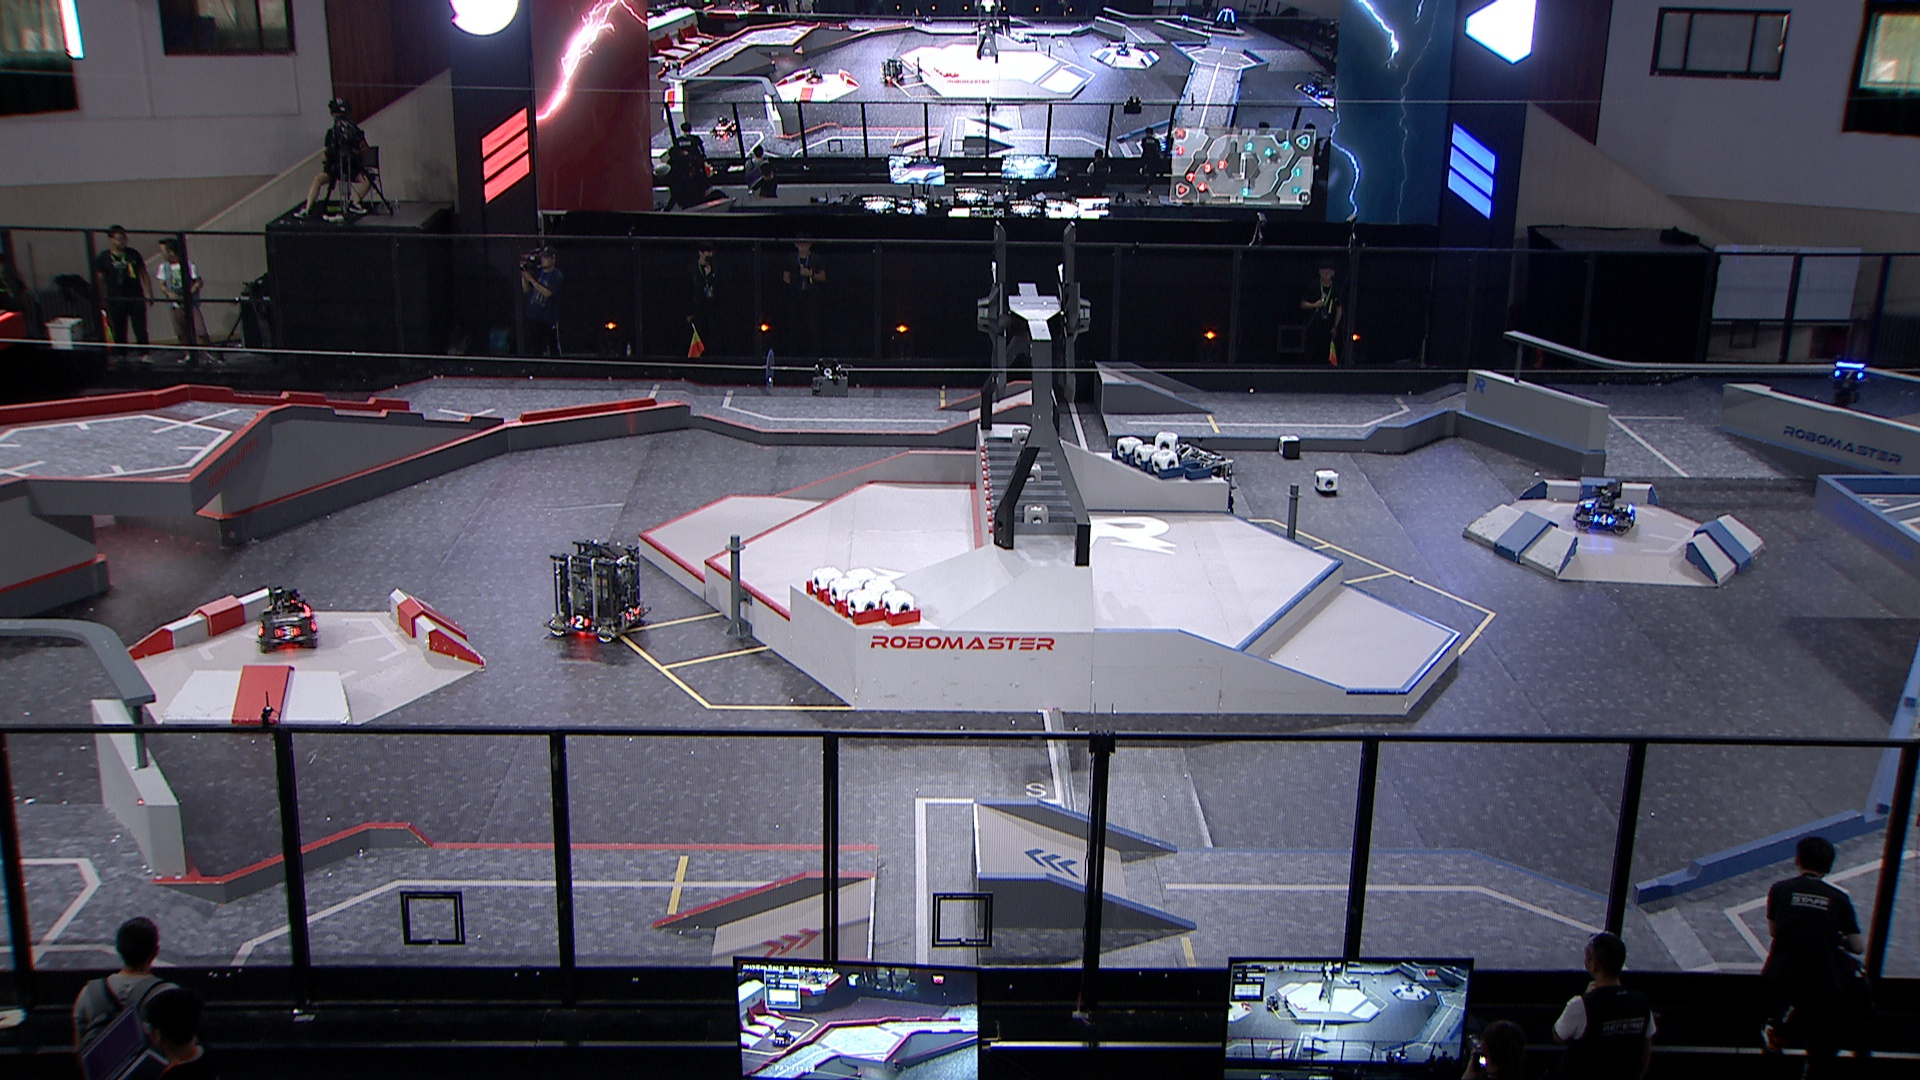armor: (1832, 367, 1865, 381), (276, 622, 299, 641), (570, 613, 593, 632), (1592, 513, 1614, 526), (622, 605, 638, 622)
car: (541, 537, 651, 645), (1149, 444, 1237, 524), (256, 585, 320, 651), (1571, 481, 1636, 535)
ignore: (1300, 69, 1332, 98), (878, 57, 906, 86), (711, 115, 741, 138), (1212, 7, 1238, 32), (803, 67, 825, 83), (1114, 40, 1131, 55)
watcher: (1826, 357, 1869, 405)
